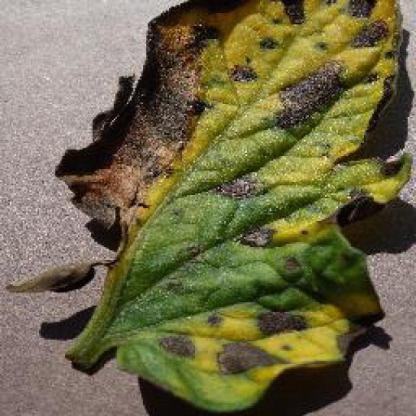Tomato_Blight: (56, 0, 407, 412)
